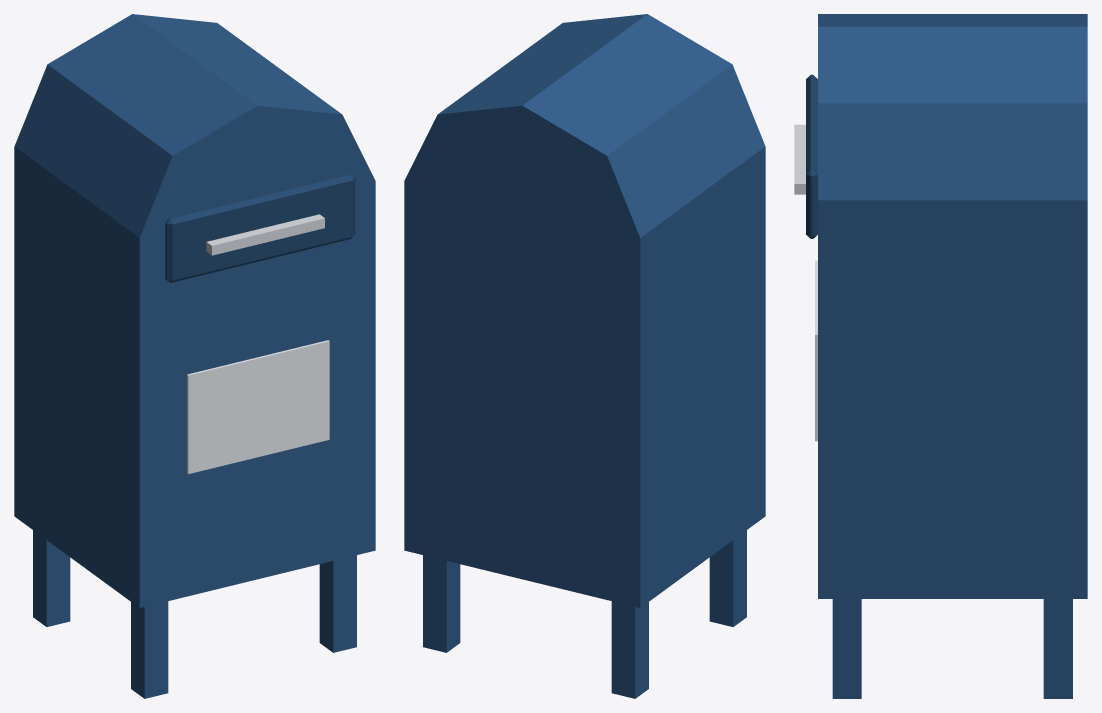
Rendered from mailbox.glb.
3 renders of one model, left to right at view 1: azimuth 30°, elevation 25°; view 2: azimuth 150°, elevation 25°; view 3: azimuth 270°, elevation 25°, orthographic. The views are drawn at different scales.
Visible parts, largest first — view 1: mailbox; view 2: mailbox; view 3: mailbox.
Boxes of the visible parts, x1=… form: mailbox: x1=14, y1=14, x2=375, y2=698; mailbox: x1=404, y1=14, x2=765, y2=698; mailbox: x1=794, y1=14, x2=1087, y2=698.
Size of the model in its own units: 0.5 by 1.16 by 0.5.
